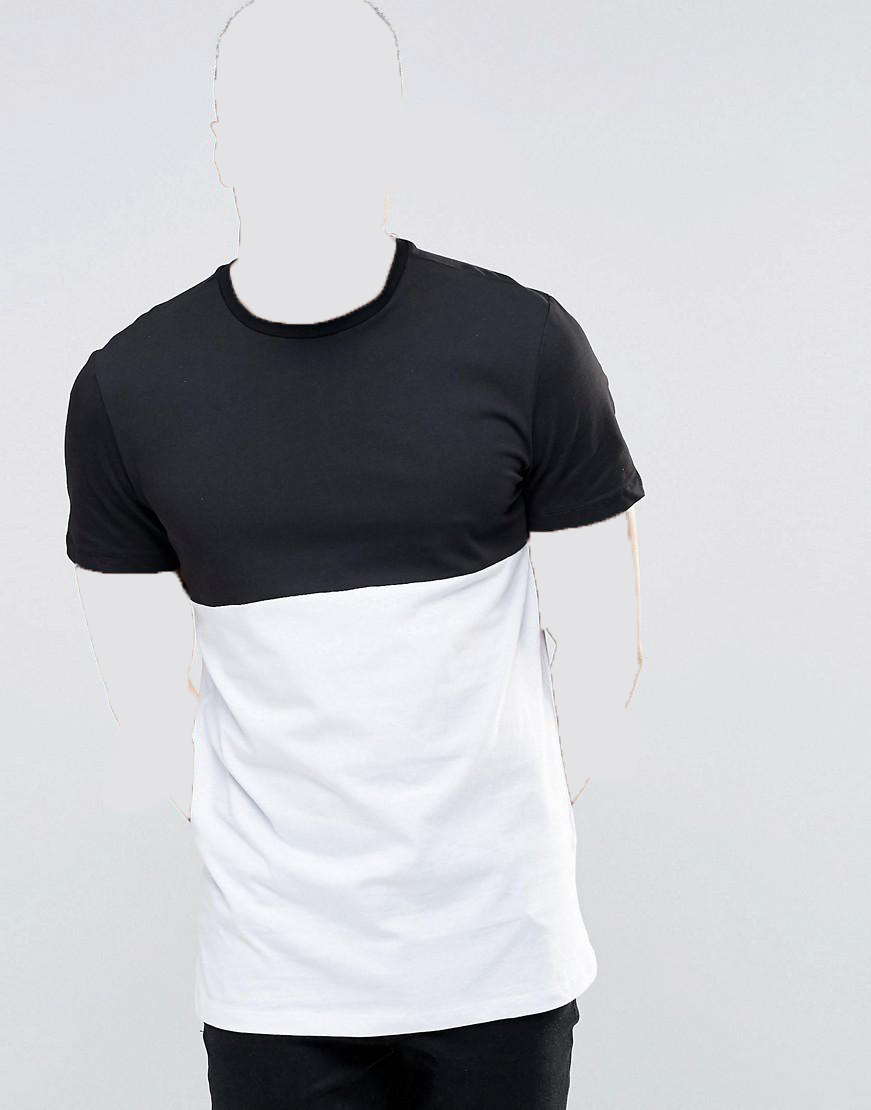teeshirt: (47, 229, 632, 1044)
